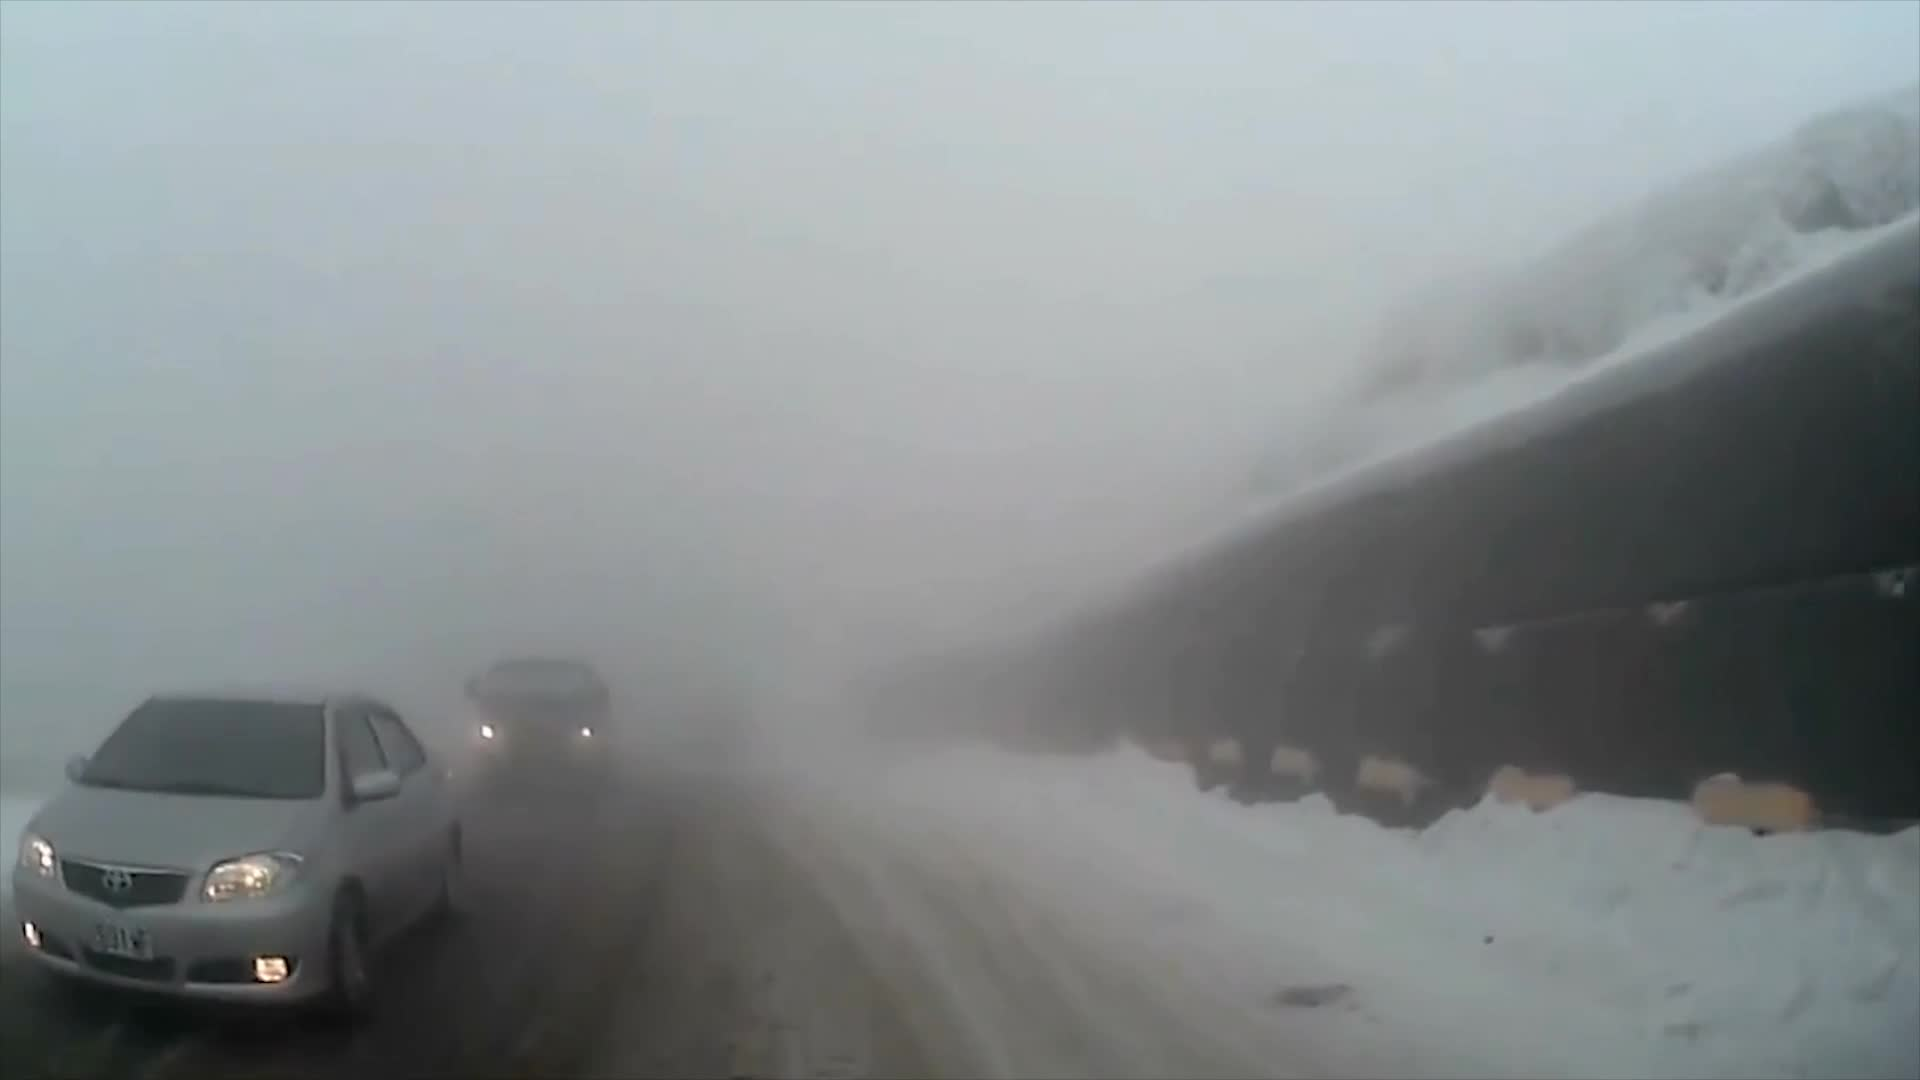vehicle: (22, 680, 471, 1029), (462, 649, 616, 785)
